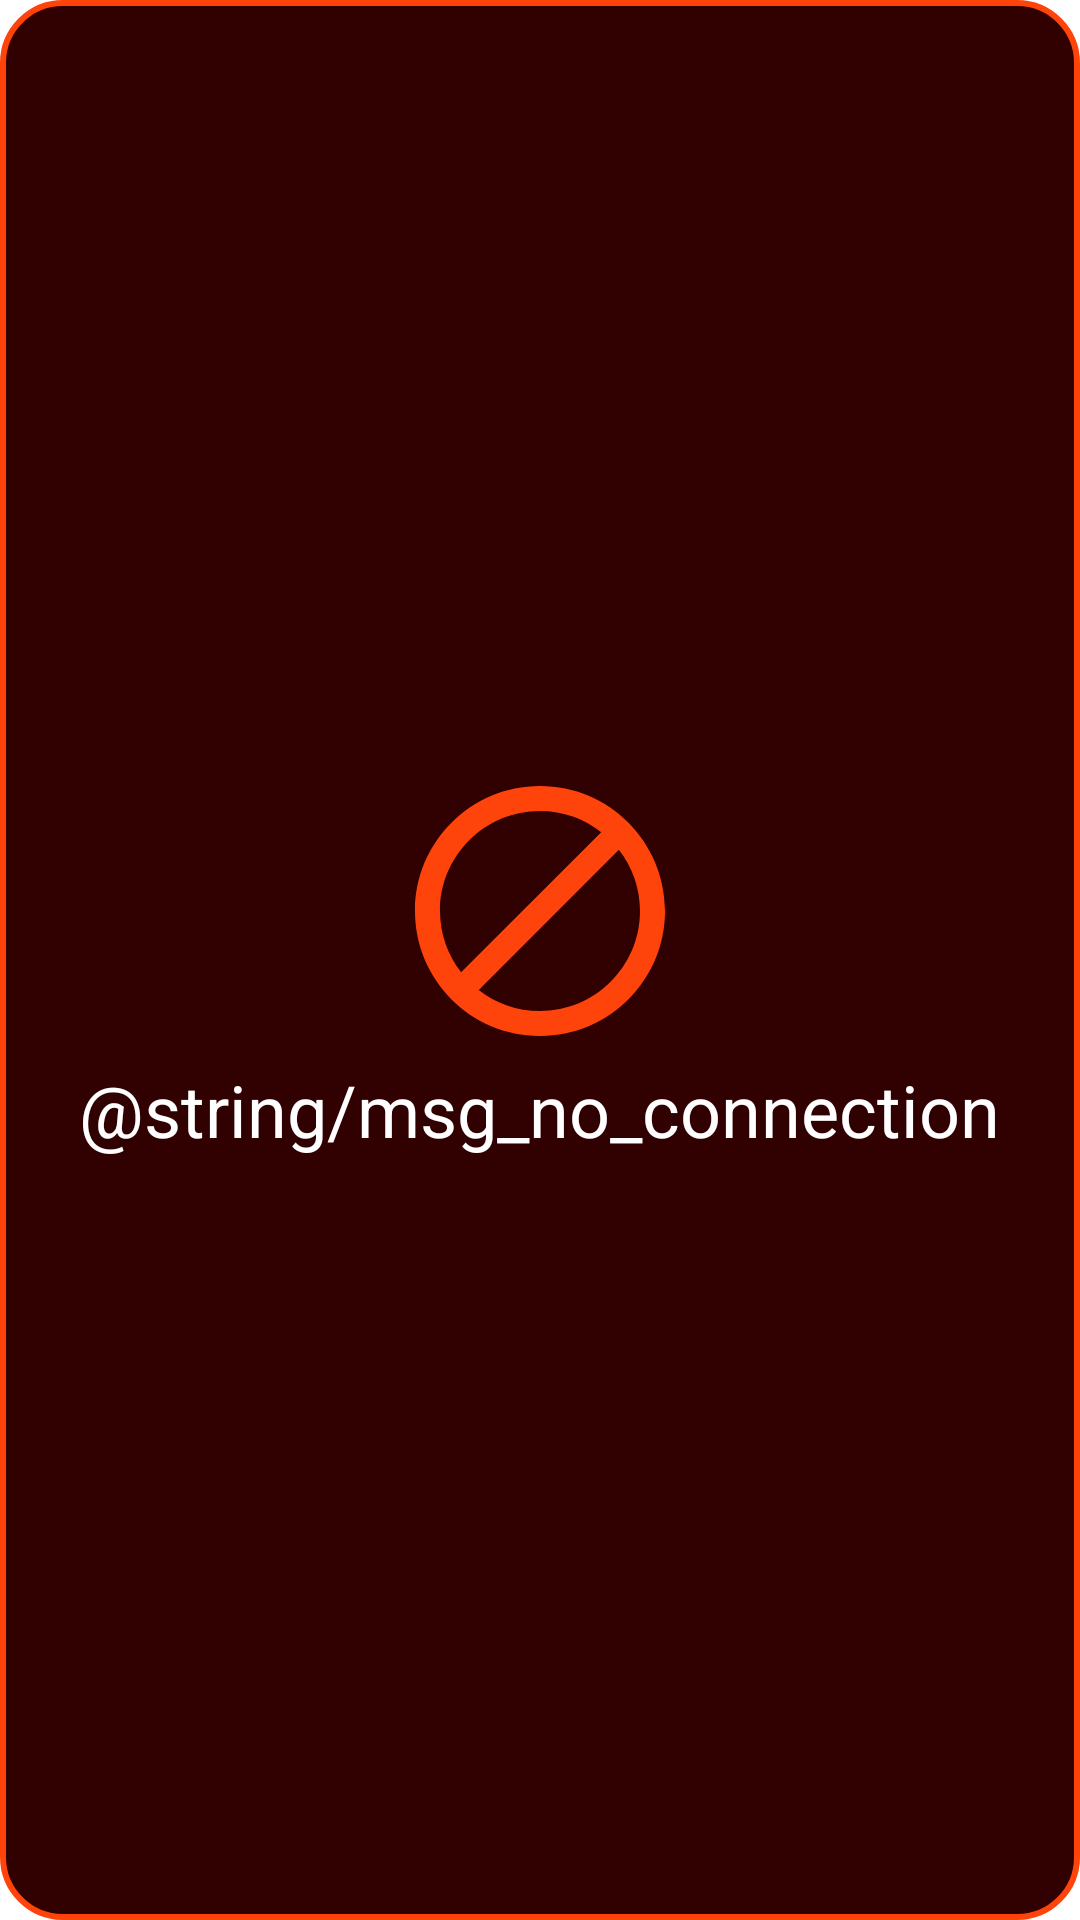

Icons on this 1080px×1920px Android screen, each with the point to tap as point (x, y):
block: point (540, 911)
